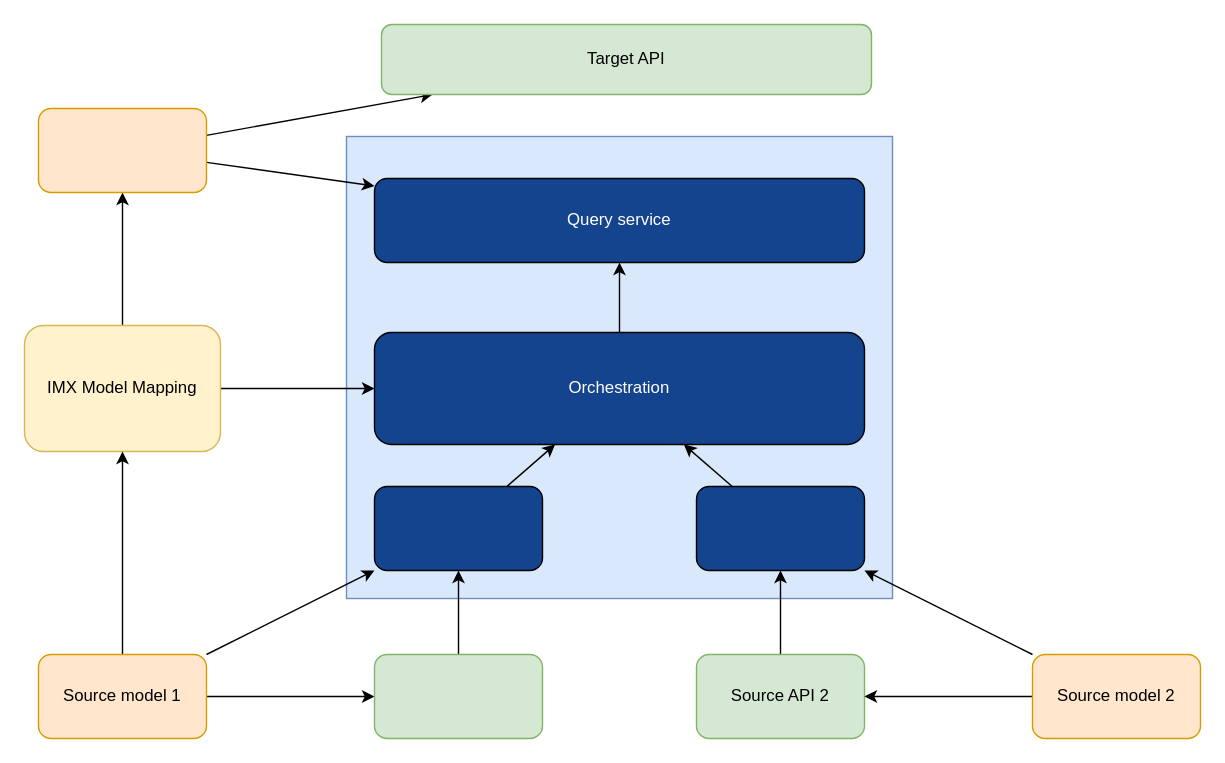
Some shapes in this 1225 by 763 pixel diagram are drawn without their labels. The centre of each missing label's shape, as x and y in pixels:
"Source adapter 1" goes at pixel 457 527.
"Source adapter 2" goes at pixel 779 527.
"Source API 1" goes at pixel 457 695.
"Target model" goes at pixel 121 149.
